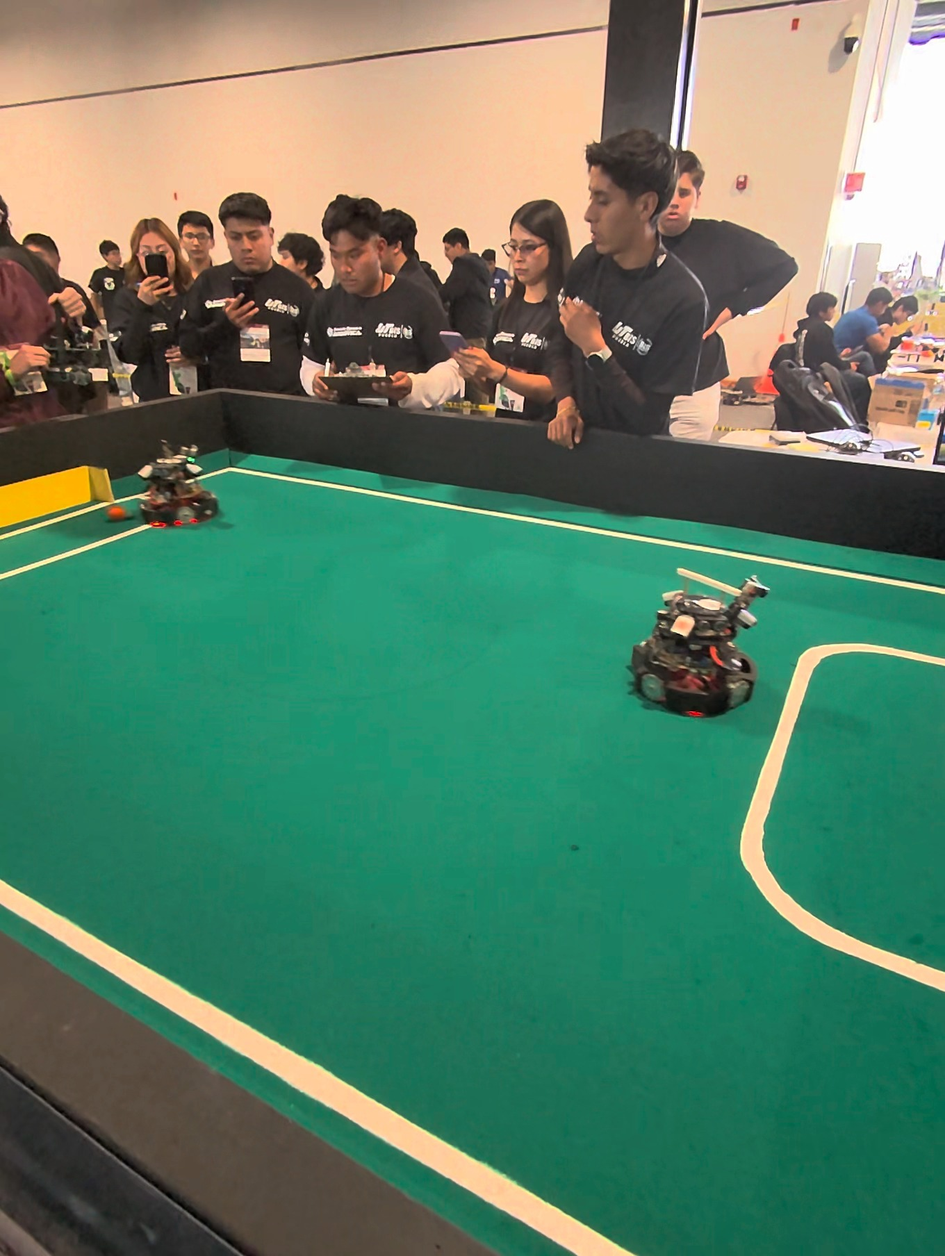Robot: (616, 540, 769, 728), (137, 423, 224, 535)
pelota: (107, 495, 126, 520)
